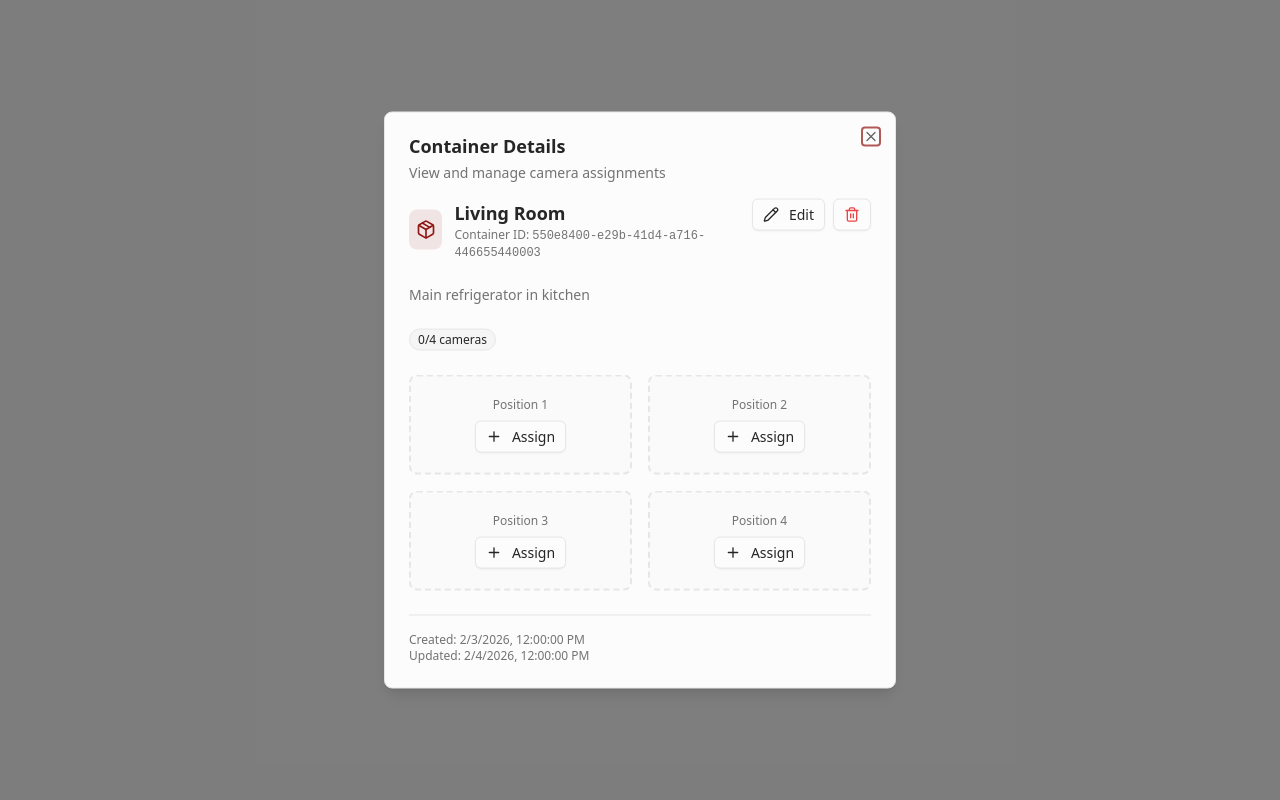
Scenario: ContainerDetail › Delete Flow › shows delete confirmation dialog when delete is clicked
The image size is (1280, 800).
Expected: the element with test id "container-detail-content" is shown, [409, 198, 871, 664]
Click delete button
Step 1. Click the button without text in the row of "Living Room" → (852, 214), box [833, 198, 871, 230]
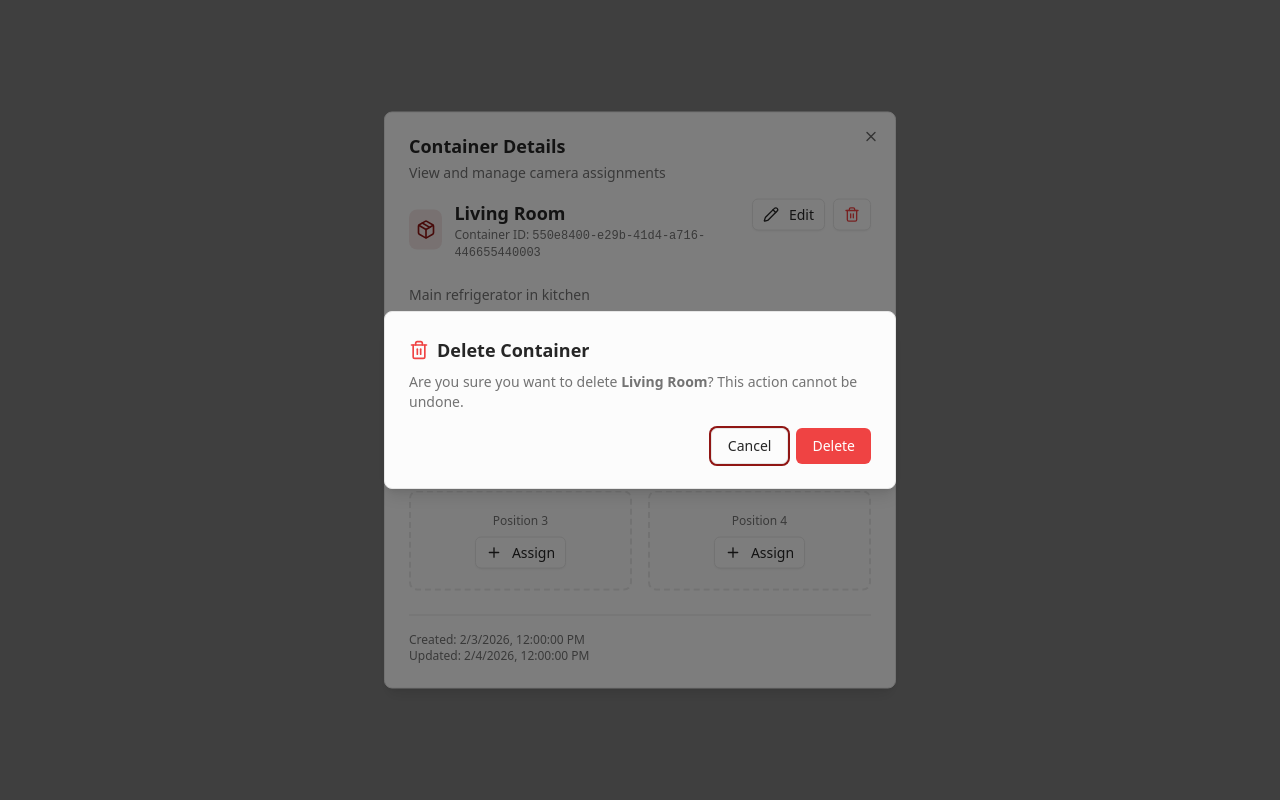
Expected: the dialog with test id "delete-container-dialog" is shown, [384, 311, 896, 489]
